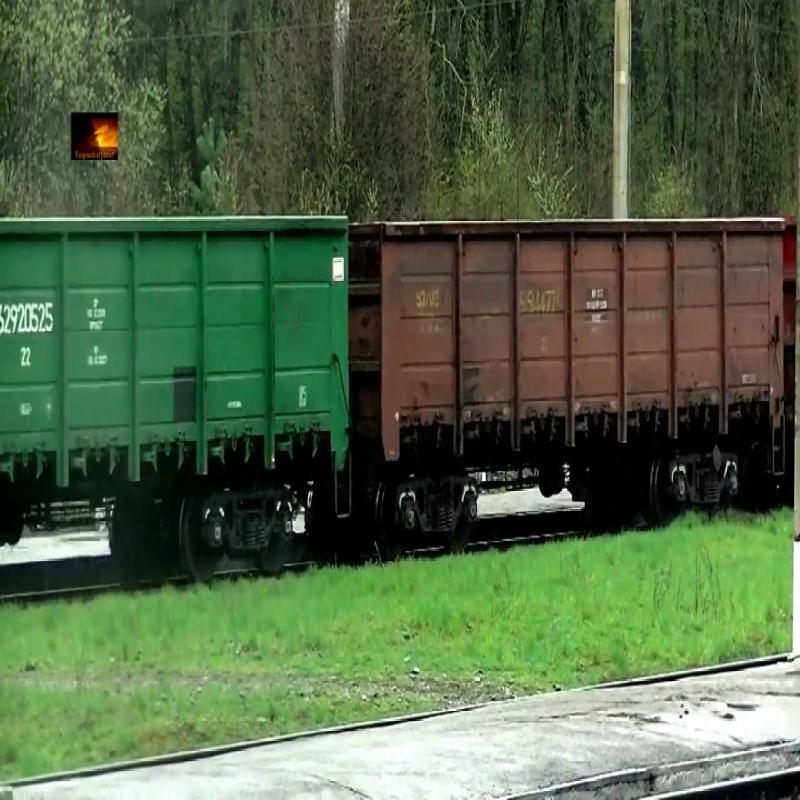train: (351, 217, 786, 466), (1, 215, 350, 499)
